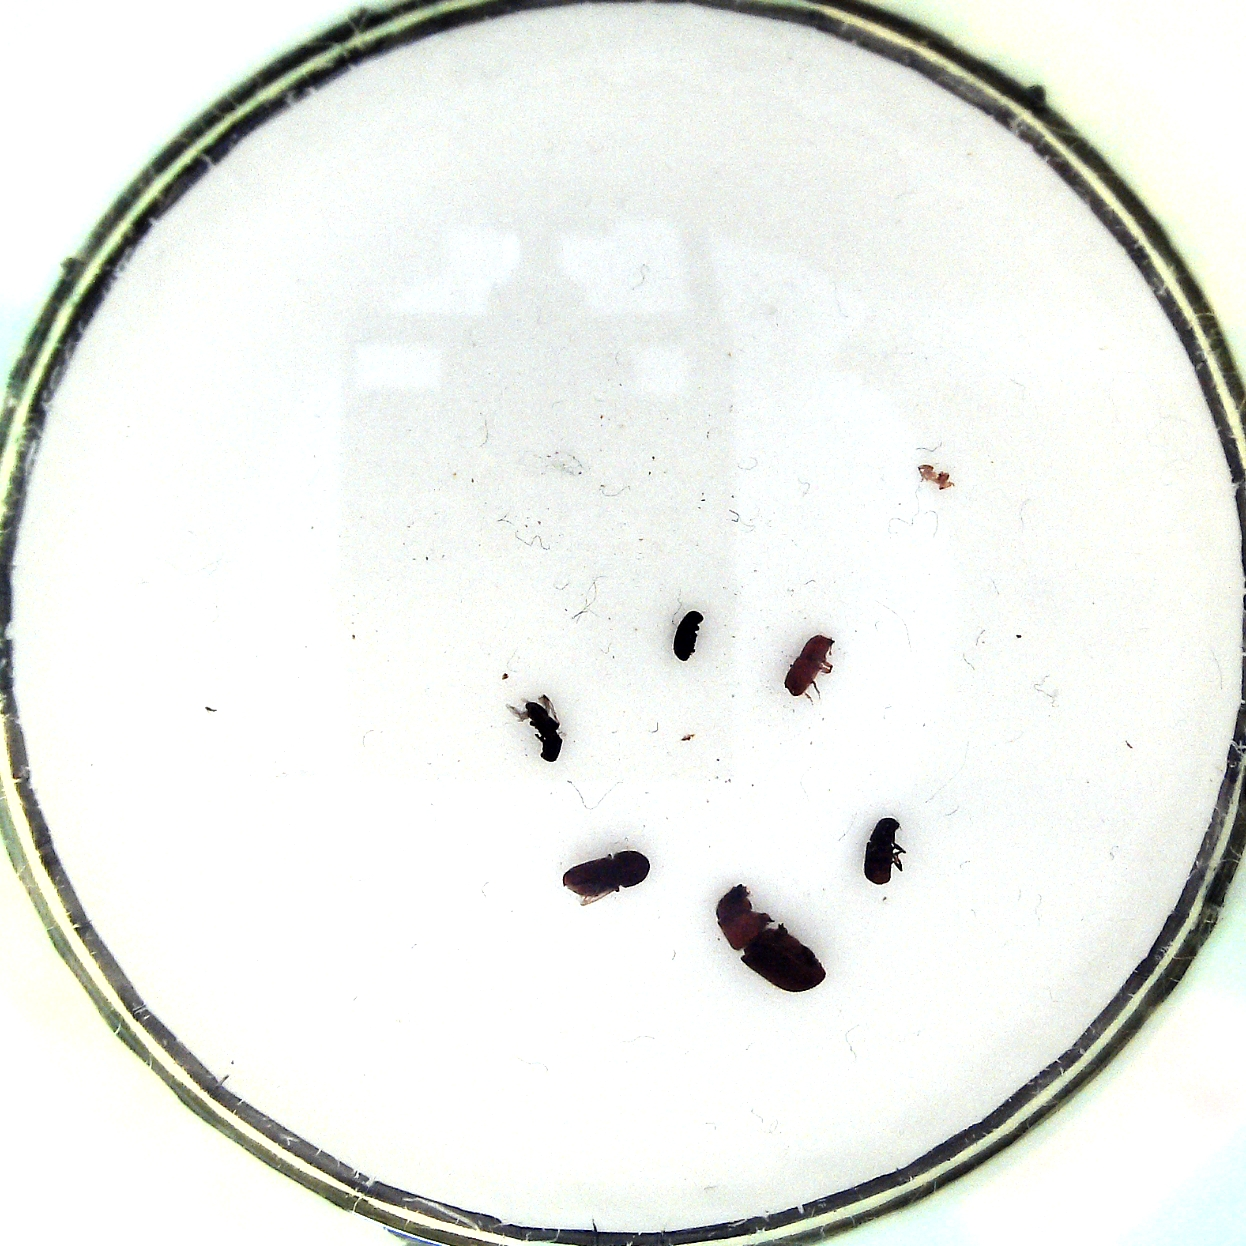Leconte: (718, 884, 831, 995)
Linnaeus: (555, 851, 654, 908)
acuminatus: (780, 636, 840, 707)
armandi: (860, 810, 913, 887)
coleoptera: (513, 691, 565, 769), (667, 610, 709, 669)
